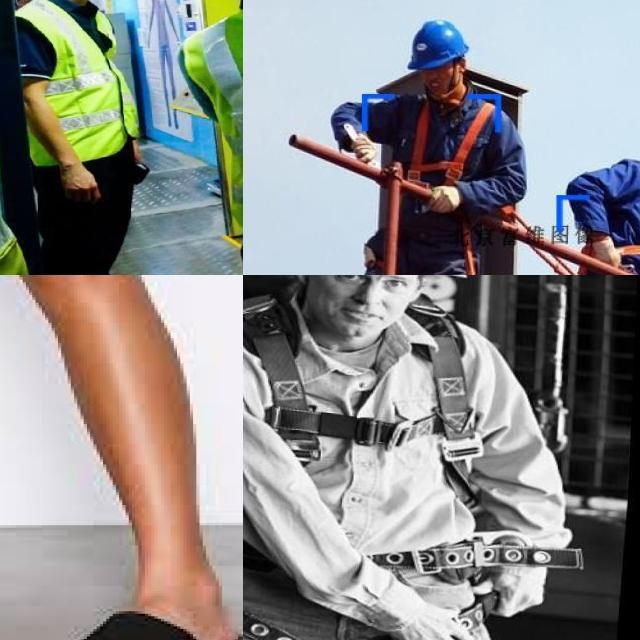Harness: (243, 295, 484, 462), (368, 91, 498, 275)
Sandals: (32, 574, 243, 640)
hand_noglove: (51, 159, 111, 200)
person: (9, 0, 147, 275), (185, 0, 243, 275)
vest: (17, 2, 144, 166), (195, 2, 243, 232)
